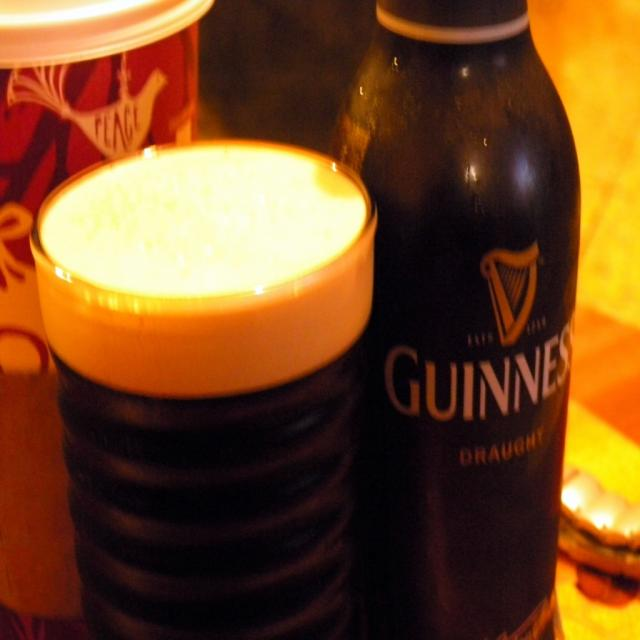guiness: (383, 239, 576, 428)
